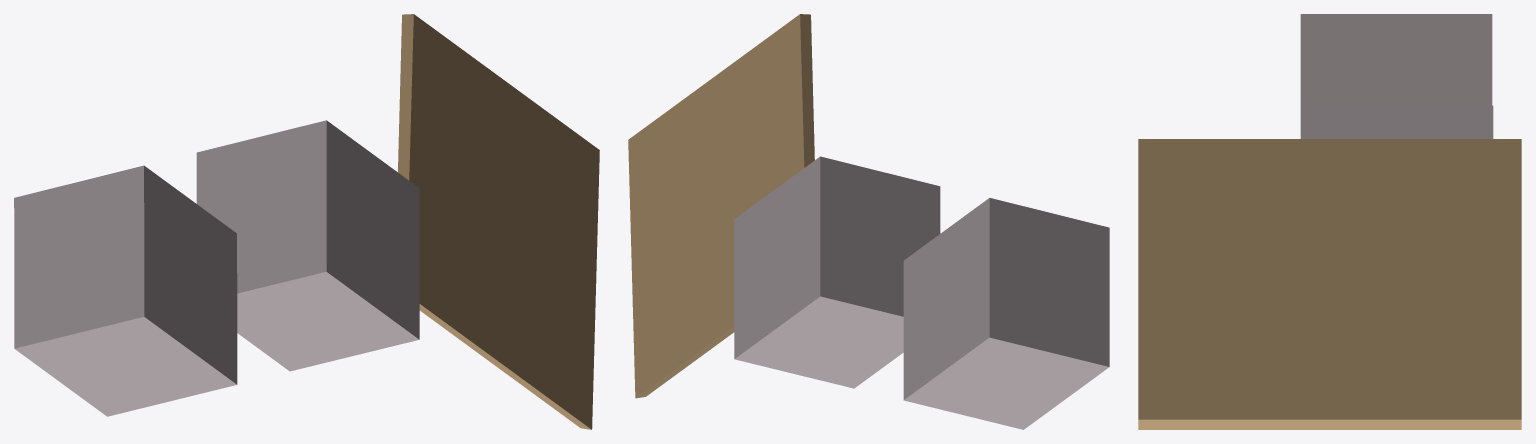
The picture shows the model from 3 angles, left to right: view 1: azimuth 30°, elevation 25°; view 2: azimuth 150°, elevation 25°; view 3: azimuth 270°, elevation 25°; orthographic projection. The views are drawn at different scales.
Parts seen in each view (by area): view 1: 0_2_1_0_3_3_3_3_3; view 2: 0_2_1_0_3_3_3_3_3; view 3: 0_2_1_0_3_3_3_3_3.
Boxes of the visible parts, x1,y1,x2,y2 form: 0_2_1_0_3_3_3_3_3: (14, 14, 599, 429); 0_2_1_0_3_3_3_3_3: (628, 14, 1109, 429); 0_2_1_0_3_3_3_3_3: (1138, 14, 1521, 429).
Bounding box in the file's own units: 30.83 × 19.95 × 24.
